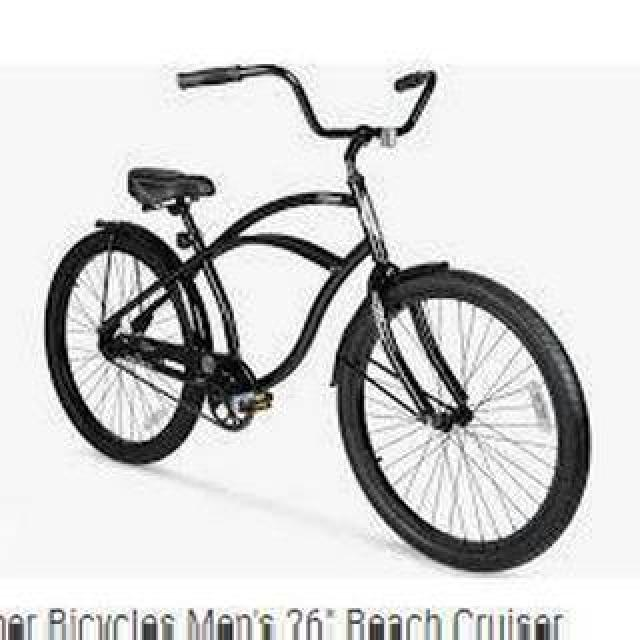Person: (37, 57, 589, 575)
